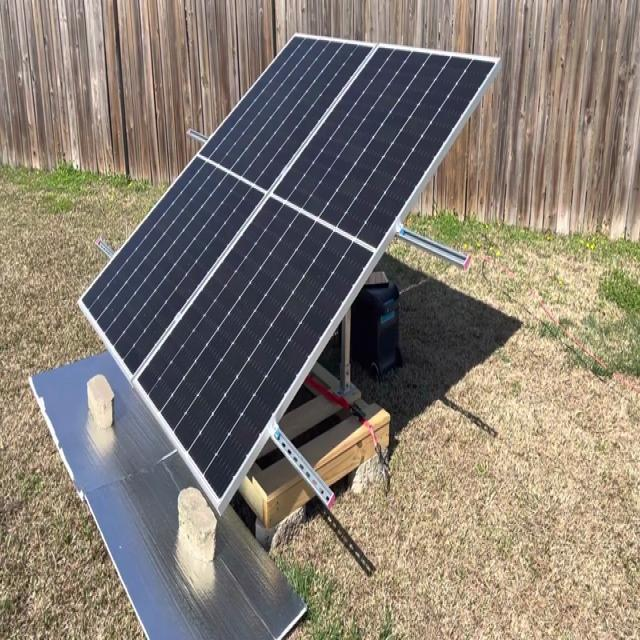Normal Solar Panel: (78, 36, 500, 504)
